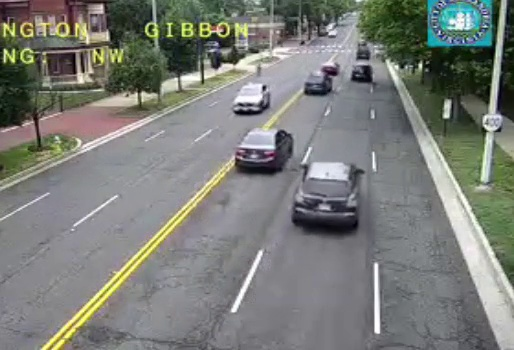car: (292, 162, 358, 226), (235, 129, 293, 168), (303, 74, 332, 94), (352, 64, 372, 83), (321, 61, 340, 76)
